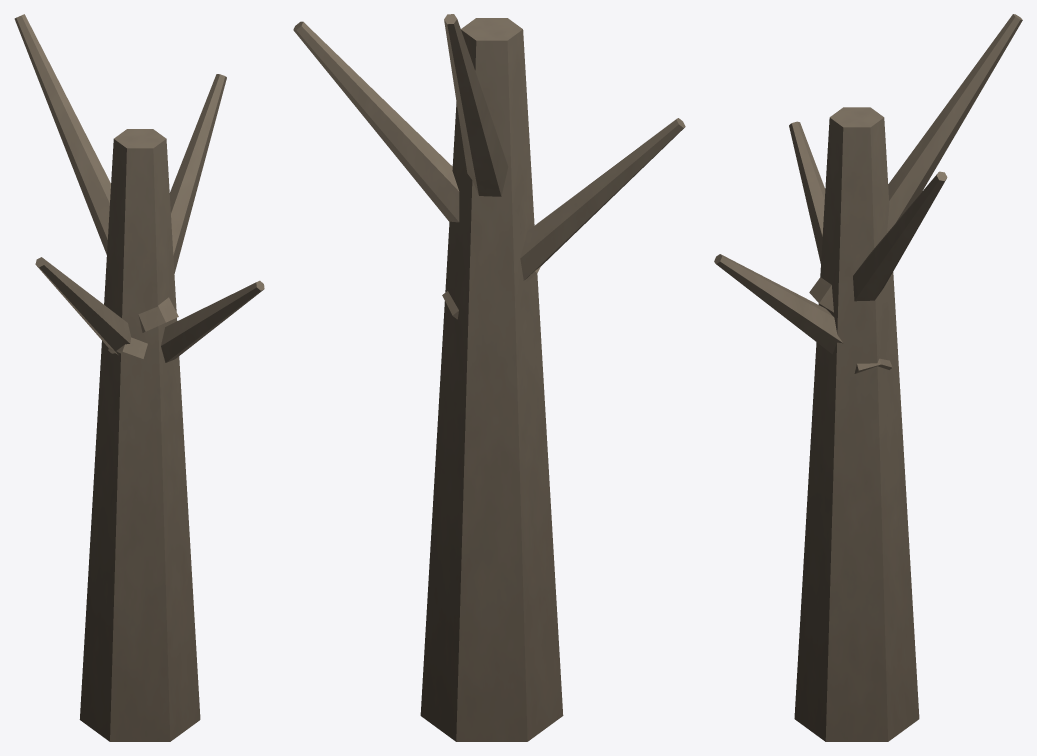
Rendered from dead_tree.glb.
3 renders of one model, left to right at view 1: azimuth 30°, elevation 25°; view 2: azimuth 150°, elevation 25°; view 3: azimuth 270°, elevation 25°, orthographic. The views are drawn at different scales.
Visible parts, largest first — view 1: dead_tree; view 2: dead_tree; view 3: dead_tree.
Part boxes in pixels (x1,y1,x2,y2): dead_tree: [14, 14, 264, 741]; dead_tree: [293, 14, 685, 741]; dead_tree: [714, 14, 1022, 741].
Bounding box in the file's own units: 0.7964 × 1.93 × 0.791.
Materials: 1 (1 with a texture image).
